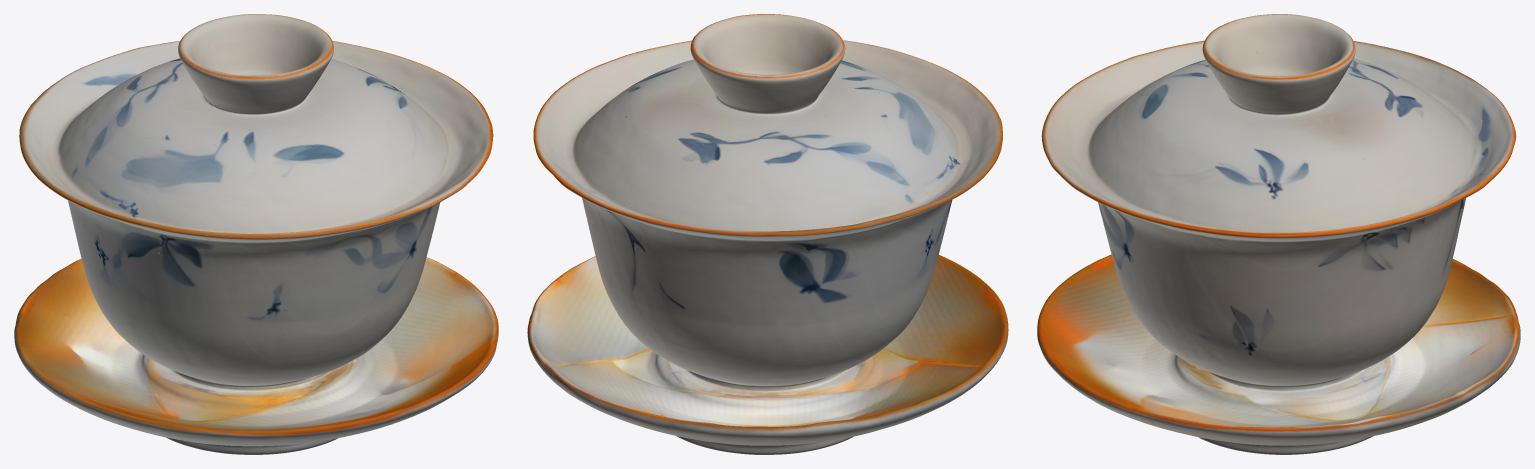
Rendered from tripo_convert_e3d5abe5-8327-49fa-ab5f-391e1174774e.fbx.
3 views of the same model, side by side, from view 1: azimuth 30°, elevation 25°; view 2: azimuth 150°, elevation 25°; view 3: azimuth 270°, elevation 25° (orthographic).
Parts seen in each view (by area): view 1: tripo_node_e3d5abe5; view 2: tripo_node_e3d5abe5; view 3: tripo_node_e3d5abe5.
Part boxes in pixels (<box>): tripo_node_e3d5abe5: <box>14,14,498,454</box>; tripo_node_e3d5abe5: <box>527,14,1008,454</box>; tripo_node_e3d5abe5: <box>1037,14,1520,454</box>.
Size of the model in its own units: 94.94 by 80.69 by 95.09.
1 material, 1 textured.
